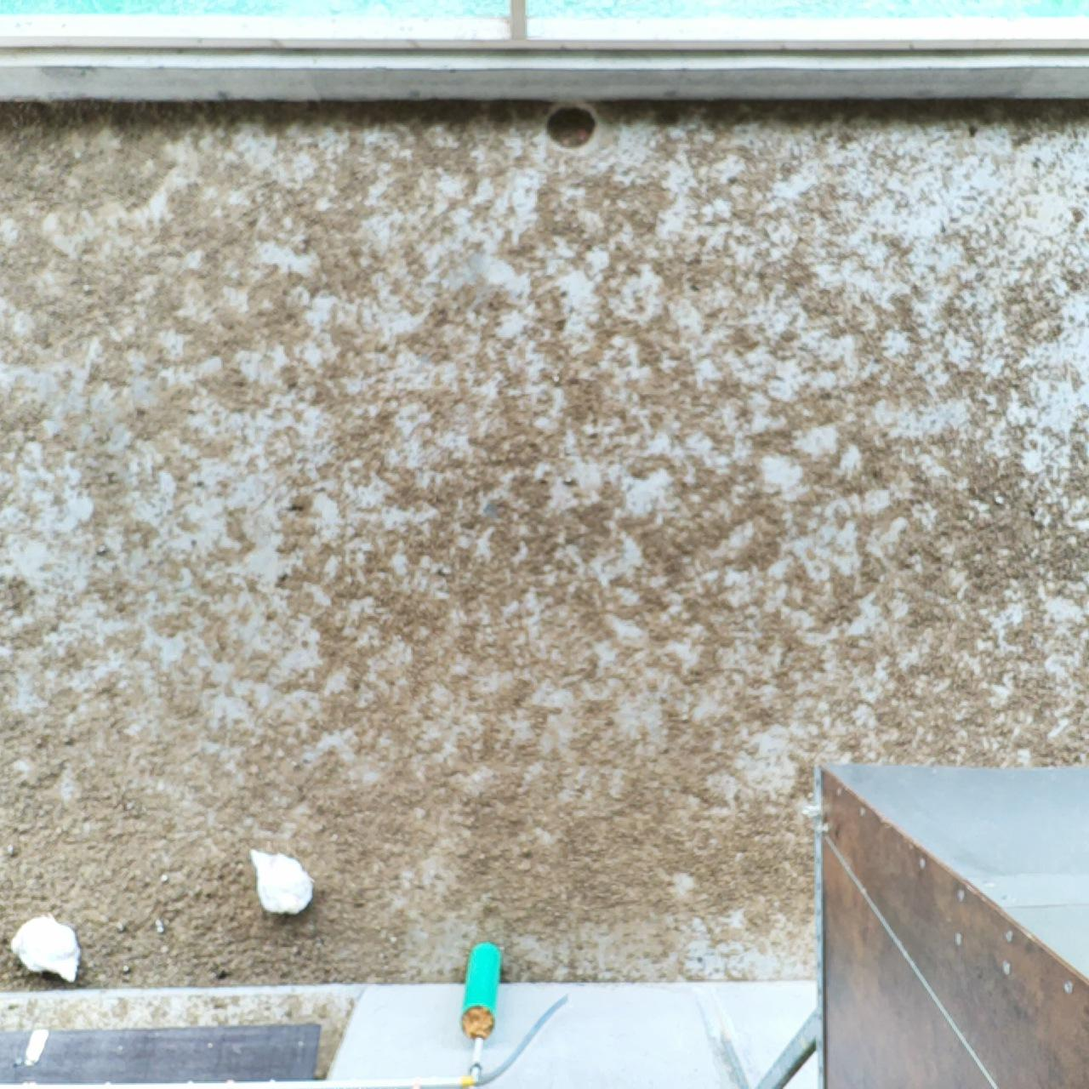chicken: (6, 908, 88, 988), (247, 843, 320, 922)
